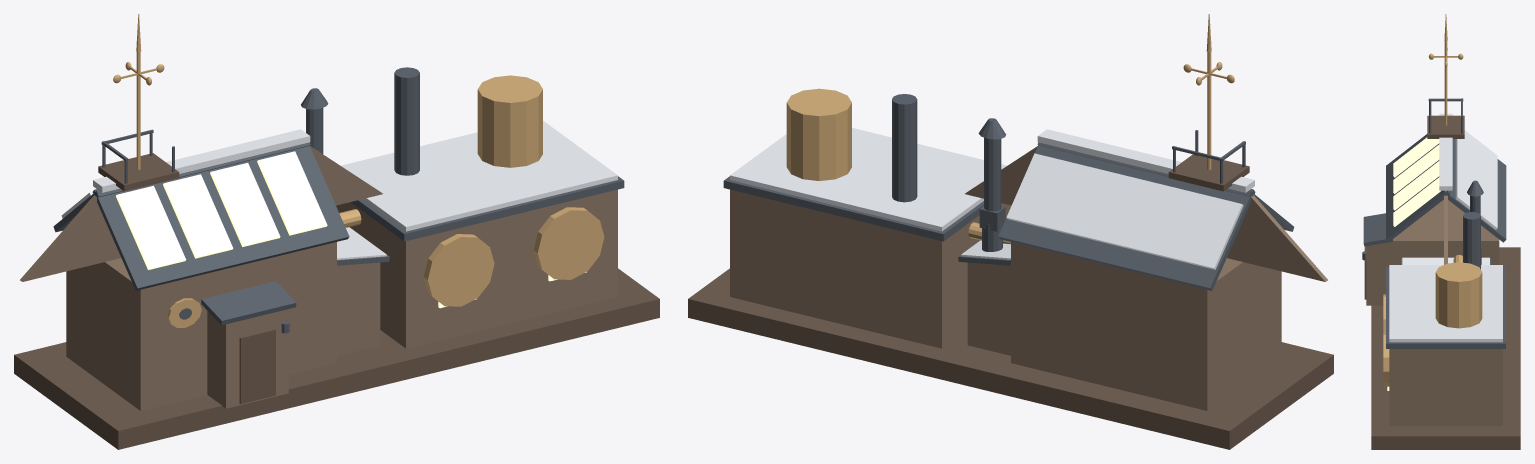
File: workshop.glb
3 views of the same model, side by side, from view 1: azimuth 30°, elevation 25°; view 2: azimuth 150°, elevation 25°; view 3: azimuth 270°, elevation 25° (orthographic). The views are drawn at different scales.
Visible parts, largest first — view 1: workshop_Building; view 2: workshop_Building; view 3: workshop_Building.
Part boxes in pixels (bbox=[...]): workshop_Building: bbox=[14, 14, 659, 449]; workshop_Building: bbox=[688, 14, 1333, 449]; workshop_Building: bbox=[1362, 14, 1520, 449].
Size of the model in its own units: 14.95 by 9.25 by 4.88.
